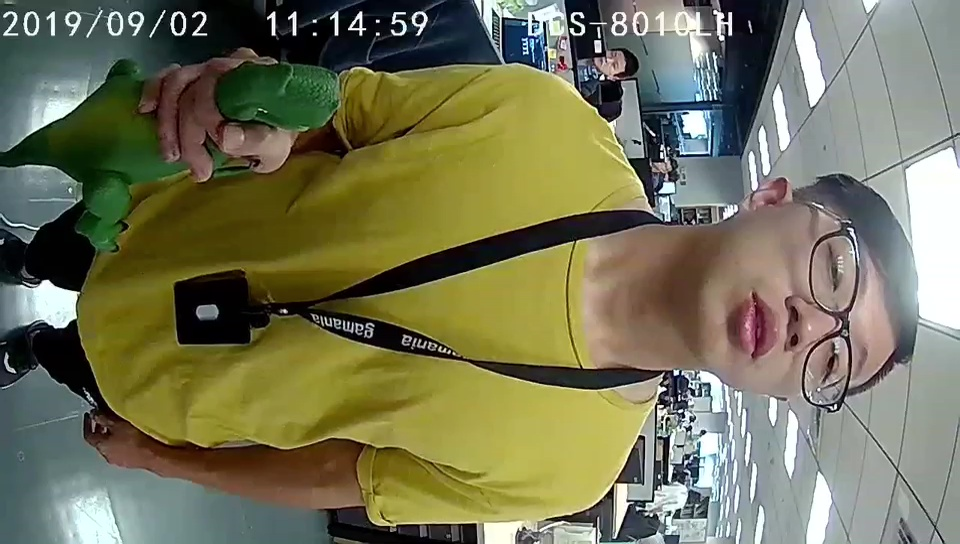rex: (77, 60, 340, 254)
